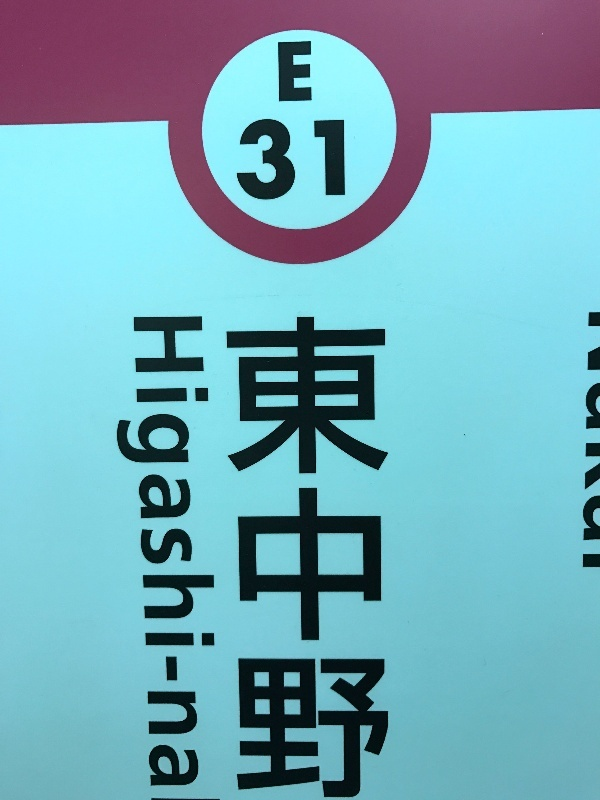text: (241, 315, 256, 800), (257, 315, 272, 800), (273, 315, 288, 800), (289, 315, 304, 800), (305, 315, 320, 800), (321, 315, 336, 800), (337, 315, 352, 800), (353, 315, 368, 800), (369, 315, 384, 800), (129, 318, 144, 790), (145, 318, 160, 790), (161, 318, 176, 790), (177, 318, 192, 790), (193, 318, 208, 790), (226, 315, 240, 800), (115, 318, 128, 790), (209, 318, 216, 790), (385, 315, 390, 800), (593, 312, 600, 570), (257, 116, 272, 203), (273, 116, 288, 203), (289, 116, 304, 203), (305, 116, 320, 203), (321, 116, 336, 203), (242, 116, 256, 203), (289, 41, 304, 104), (589, 312, 592, 570), (337, 116, 345, 203), (278, 41, 288, 104), (305, 41, 313, 104)
